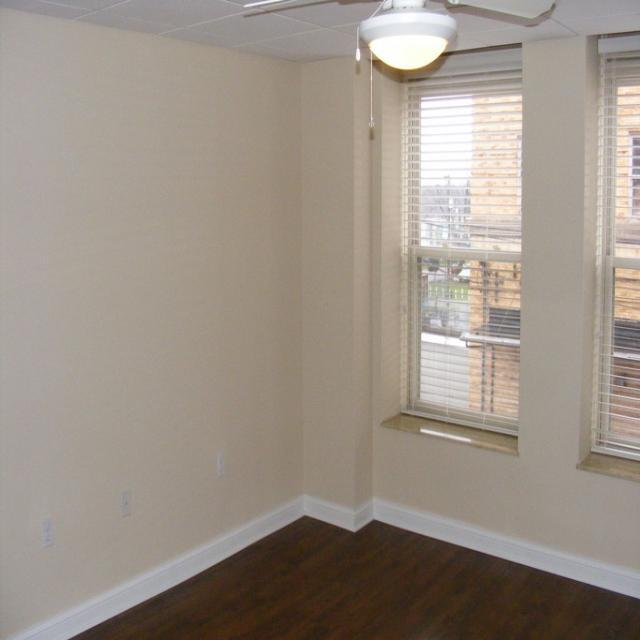fan_off: (230, 0, 558, 23)
